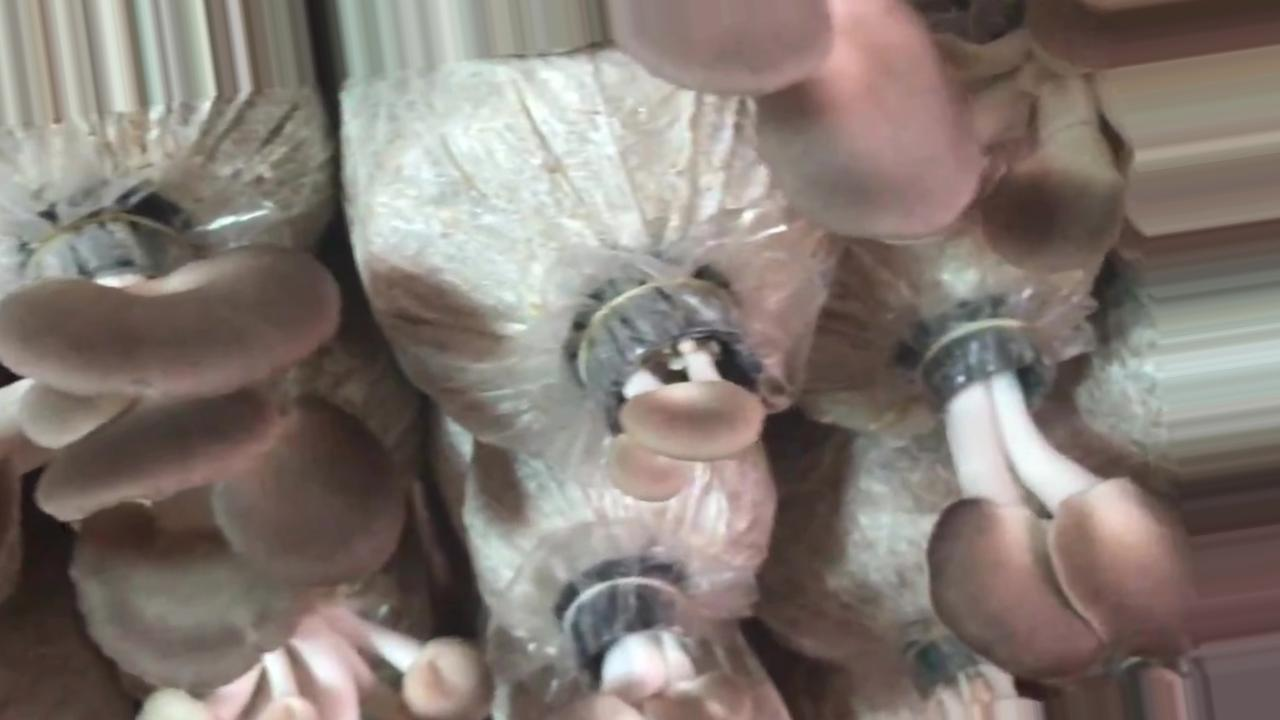nam: (1, 221, 406, 692), (613, 1, 1123, 273), (930, 317, 1192, 684), (588, 277, 764, 499), (147, 606, 486, 720)
